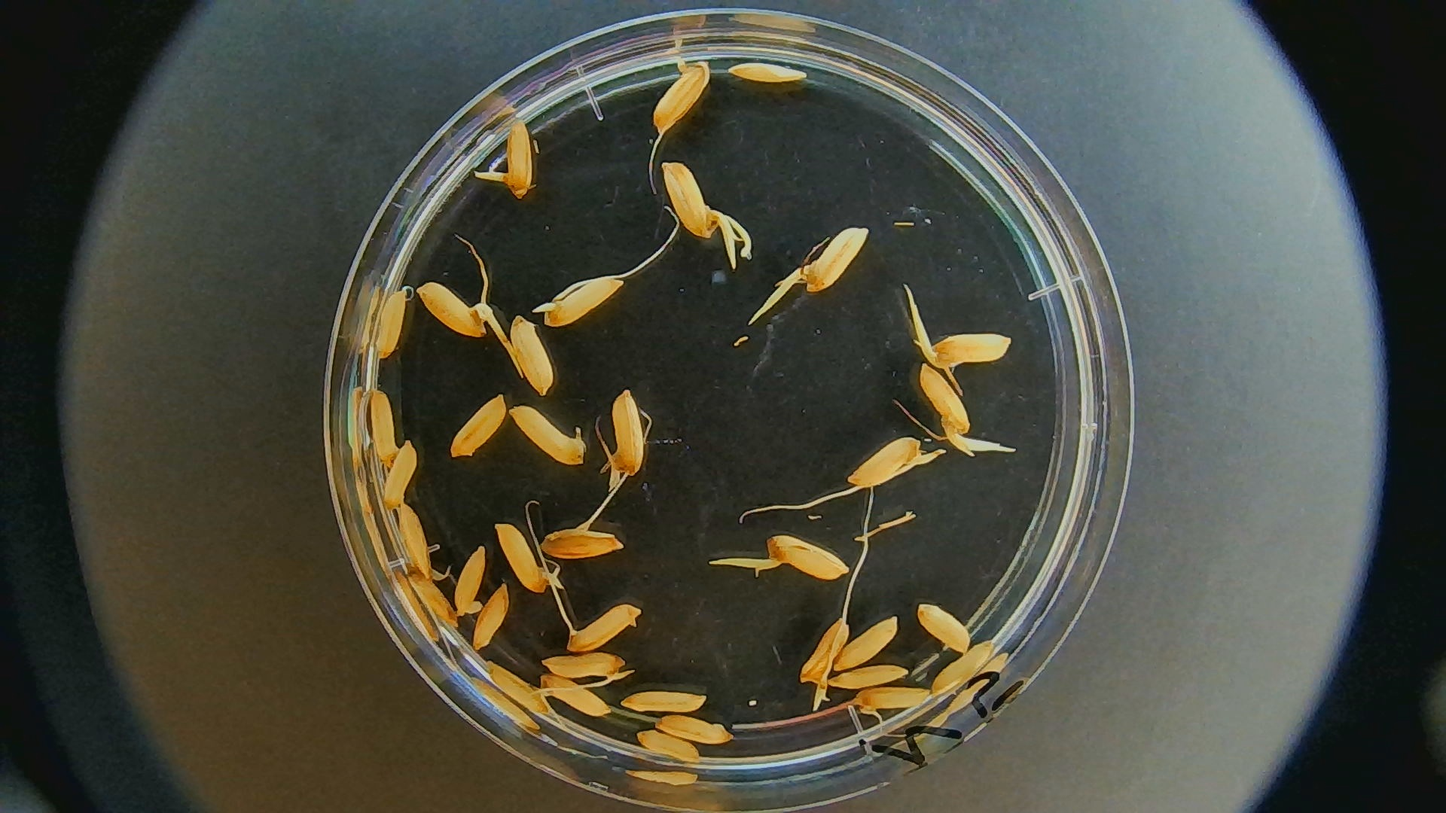no: (444, 392, 509, 460), (832, 612, 901, 672), (511, 406, 581, 464), (393, 499, 441, 582), (511, 311, 557, 393), (930, 640, 995, 698), (406, 565, 461, 633), (383, 437, 424, 519), (365, 384, 404, 469), (917, 597, 972, 654), (618, 685, 712, 718), (472, 580, 511, 656), (374, 282, 410, 364), (725, 56, 811, 90), (654, 710, 740, 743), (632, 725, 701, 764), (453, 541, 488, 617), (828, 664, 911, 693)
yes: (485, 657, 559, 724), (660, 156, 719, 238), (804, 220, 870, 293), (651, 58, 712, 136), (529, 650, 638, 690), (542, 276, 625, 328), (414, 281, 486, 339), (847, 434, 921, 489), (490, 522, 547, 593), (765, 536, 849, 583), (918, 364, 974, 433), (568, 602, 636, 653), (540, 671, 612, 719), (798, 617, 850, 683), (608, 388, 645, 478), (927, 330, 1017, 364), (536, 525, 625, 559), (500, 116, 538, 194), (848, 685, 932, 720)
